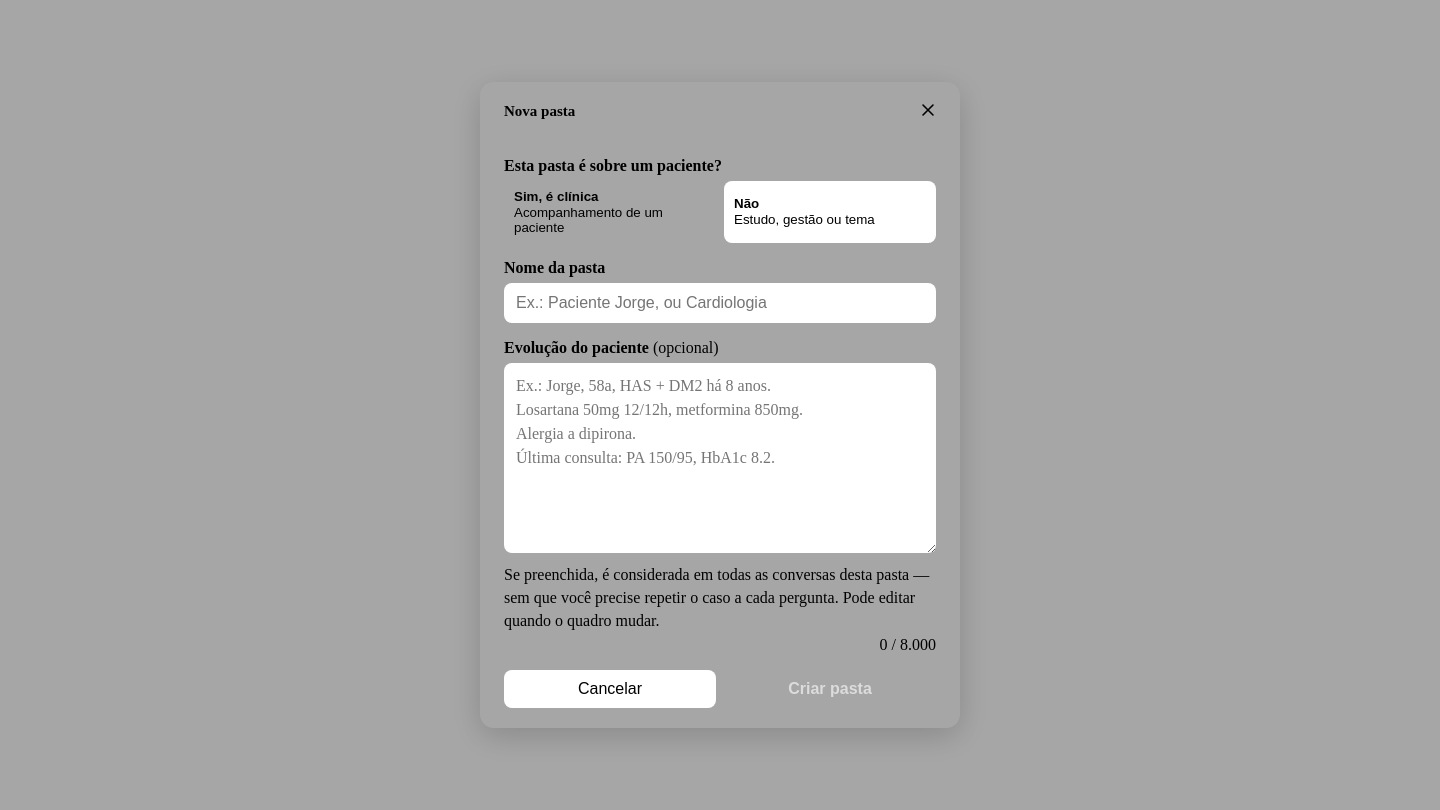
FolderModal › trocar para não-clínica troca o rótulo do campo
Expected: the text "Evolução do paciente (opcional)" is shown, x1=504 y1=339 x2=719 y2=356
Click the radio button labelled "Não Estudo, gestão ou tema" at (830, 212), box x1=724 y1=181 x2=936 y2=243
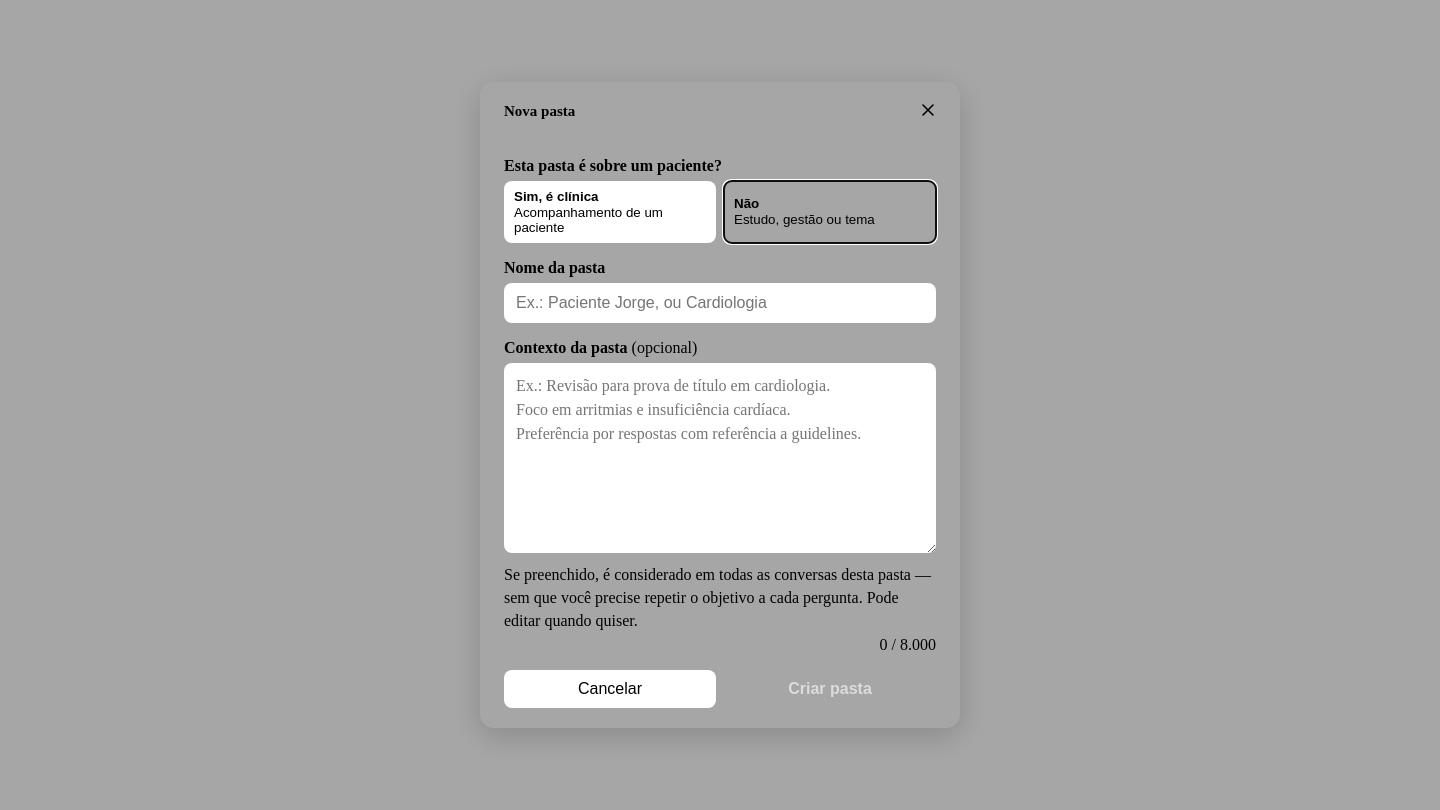
Result: the text "Evolução do paciente" is gone
Result: the text "Contexto da pasta (opcional)" is shown at x1=504 y1=339 x2=697 y2=356
